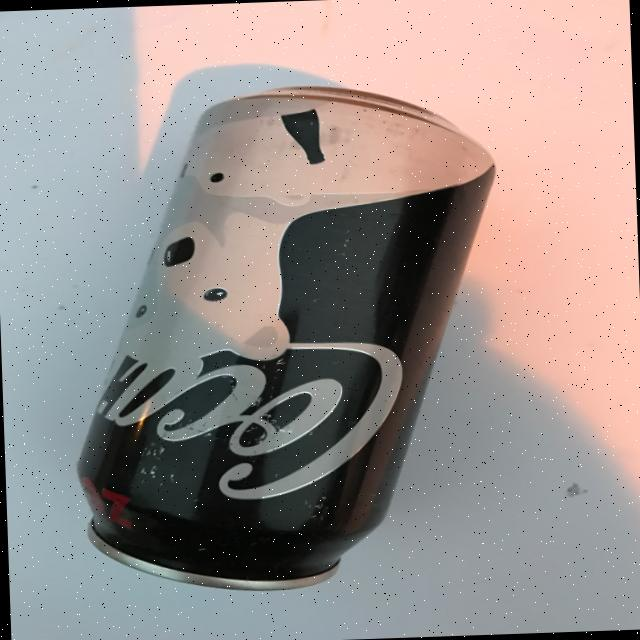metal: (62, 73, 510, 597)
